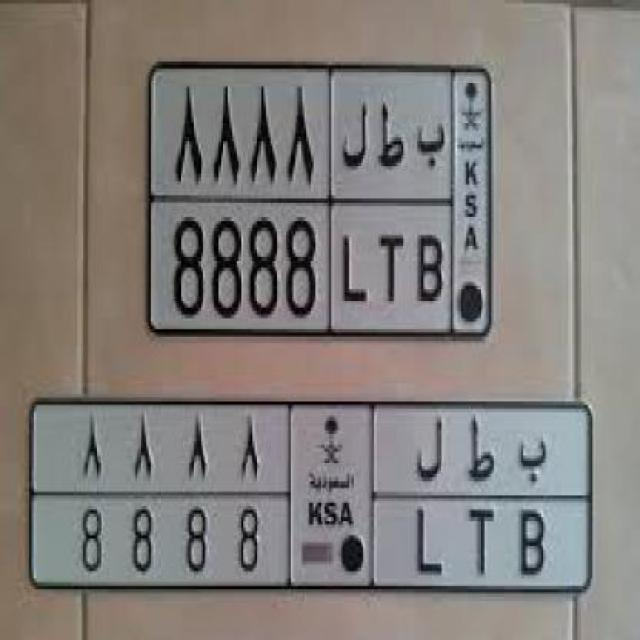license_plate: (28, 397, 594, 594), (144, 55, 500, 348)
